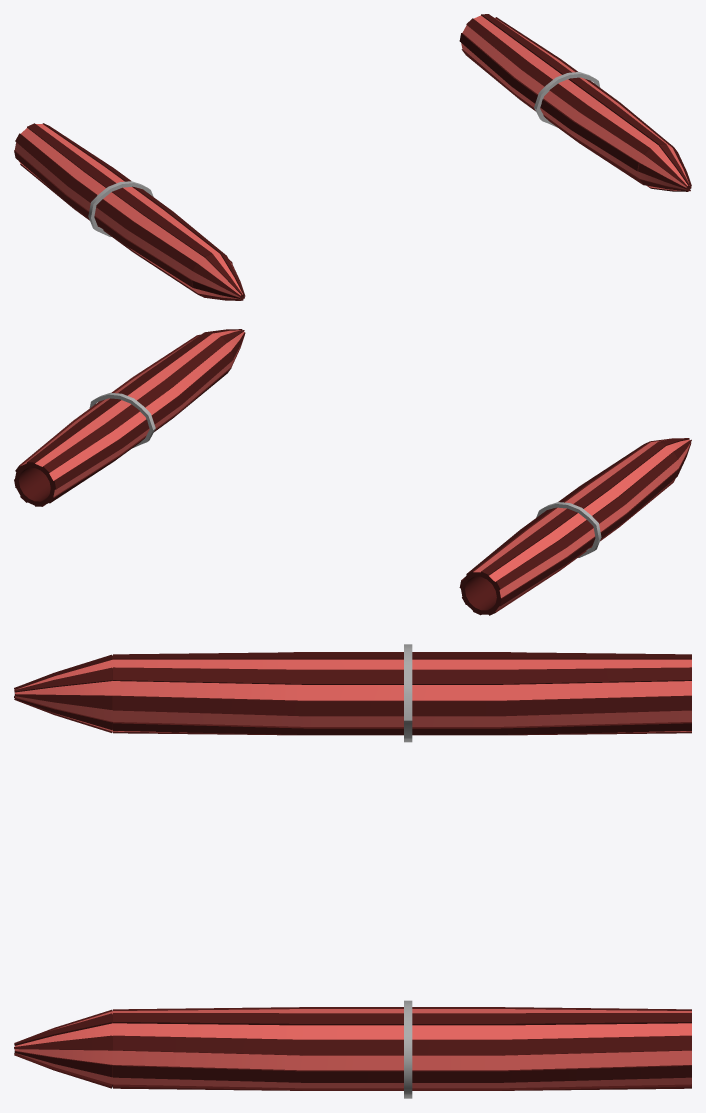
The model's file is Silnik_Wersja_Jeden 1.fbx.
3 renders of one model, top to bottom at view 1: azimuth 30°, elevation 25°; view 2: azimuth 150°, elevation 25°; view 3: azimuth 270°, elevation 25°, orthographic. The views are drawn at different scales.
Visible parts, largest first — view 1: Cylinder.008, Circle; view 2: Cylinder.008, Circle; view 3: Cylinder.008, Circle.
Boxes of the visible parts, box(x1,y1,x2,y2) form: Cylinder.008: box(14, 14, 691, 300); Circle: box(88, 72, 600, 236); Cylinder.008: box(14, 329, 691, 615); Circle: box(89, 392, 601, 557); Cylinder.008: box(14, 652, 691, 1090); Circle: box(404, 644, 412, 1098).
Size of the model in its own units: 147 by 14.52 by 104.
